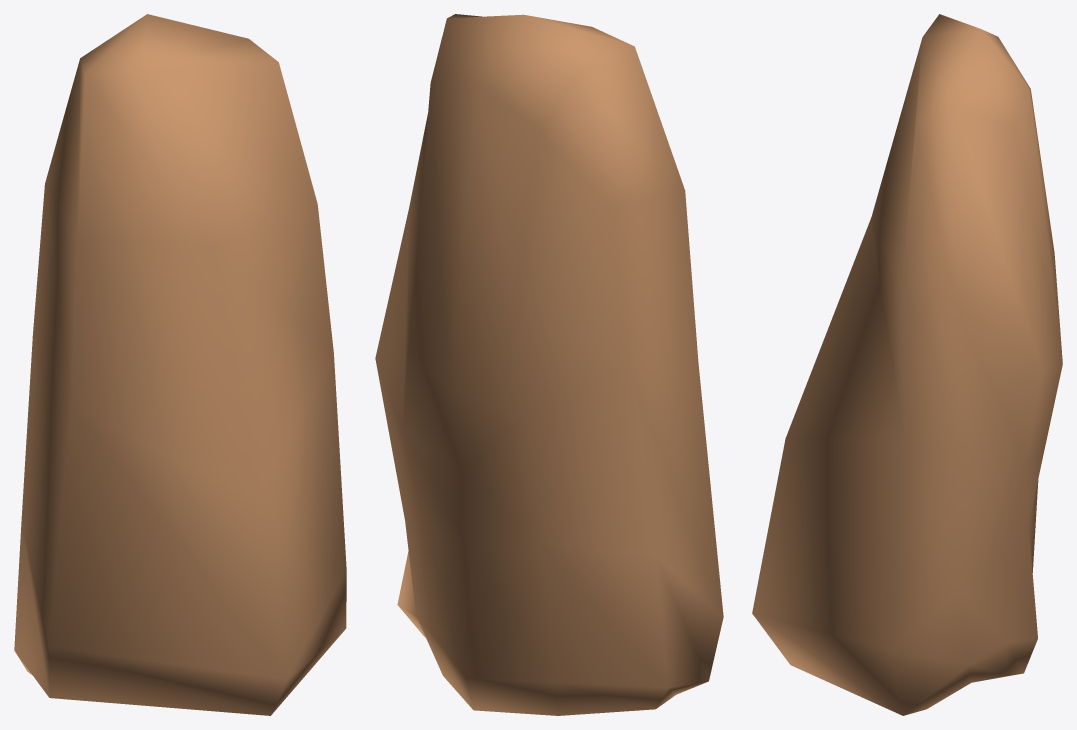
Rendered from GiantRock.fbx.
The picture shows the model from 3 angles, left to right: view 1: azimuth 30°, elevation 25°; view 2: azimuth 150°, elevation 25°; view 3: azimuth 270°, elevation 25°; orthographic projection. The views are drawn at different scales.
Visible parts, largest first — view 1: GiantRocks; view 2: GiantRocks; view 3: GiantRocks.
Boxes of the visible parts, box(x1,y1,x2,y2) form: GiantRocks: box(14, 14, 346, 715); GiantRocks: box(375, 14, 723, 715); GiantRocks: box(752, 14, 1062, 715).
Bounding box in the file's own units: 5317 × 10867 × 4833.
